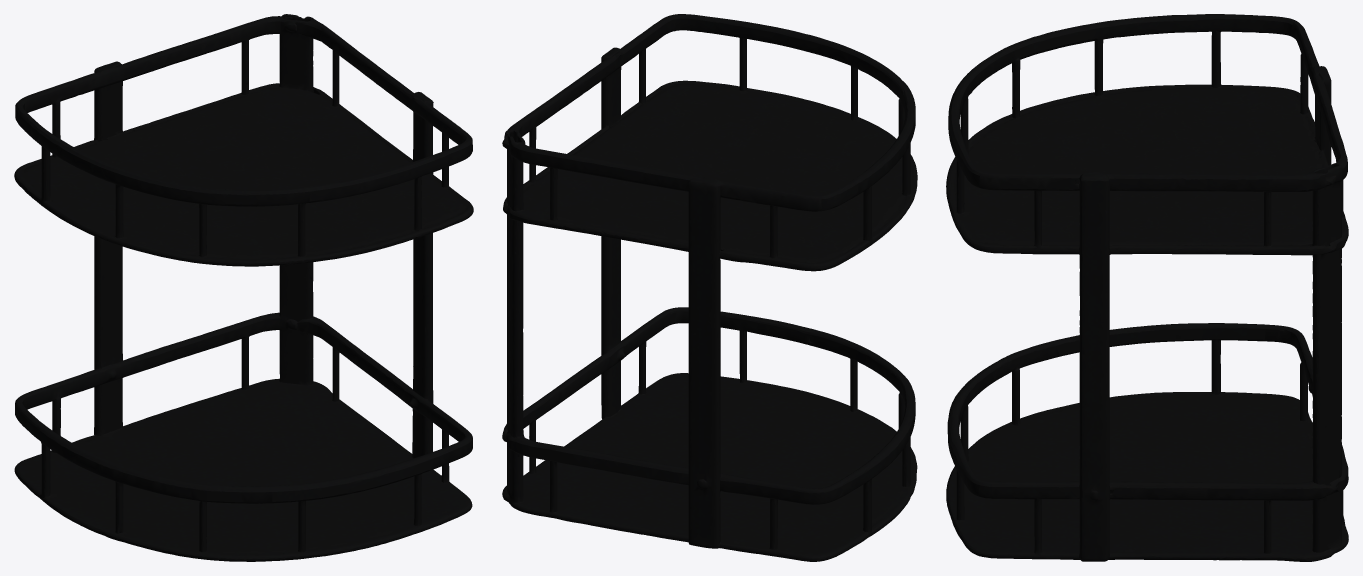
The model's file is item_c9ab359b.glb.
The picture shows the model from 3 angles, left to right: view 1: azimuth 30°, elevation 25°; view 2: azimuth 150°, elevation 25°; view 3: azimuth 270°, elevation 25°; orthographic projection. The views are drawn at different scales.
Visible parts, largest first — view 1: world; view 2: world; view 3: world.
Part boxes in pixels (<box>): world: <box>14,14,473,561</box>; world: <box>502,14,917,561</box>; world: <box>946,14,1348,561</box>.
Size of the model in its own units: 0.5405 by 0.58 by 0.55.
Materials: 1 (1 with a texture image).
